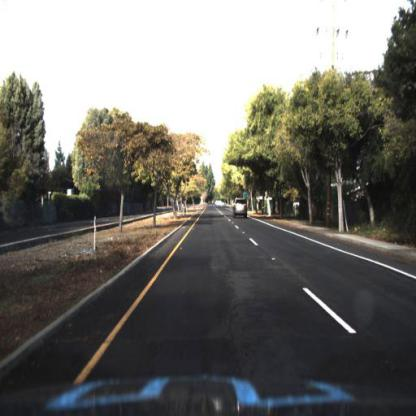car: (230, 196, 251, 221)
